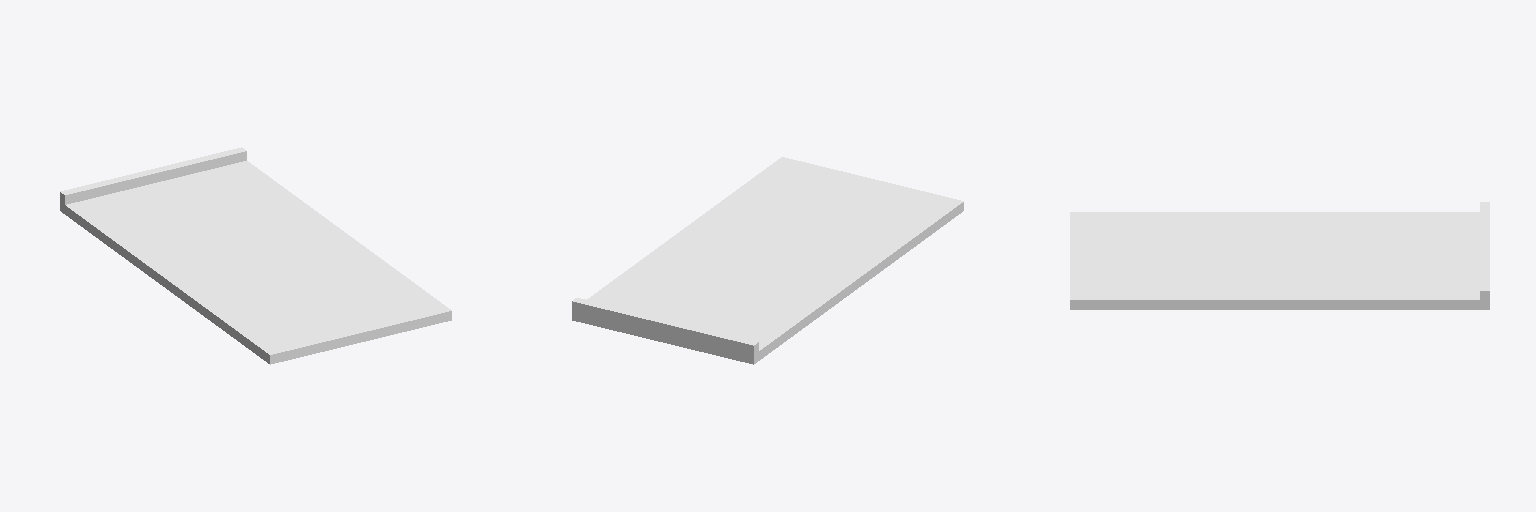
File: towel_red.obj
The picture shows the model from 3 angles: view 1: azimuth 30°, elevation 25°; view 2: azimuth 150°, elevation 25°; view 3: azimuth 270°, elevation 25°; orthographic projection.
Visible parts, largest first — view 1: object 1; view 2: object 1; view 3: object 1.
Boxes of the visible parts, box(x1,y1,x2,y2) form: object 1: box(60, 147, 451, 364); object 1: box(572, 157, 963, 364); object 1: box(1070, 202, 1489, 309).
Bounding box in the file's own units: 2 × 0.2 × 4.